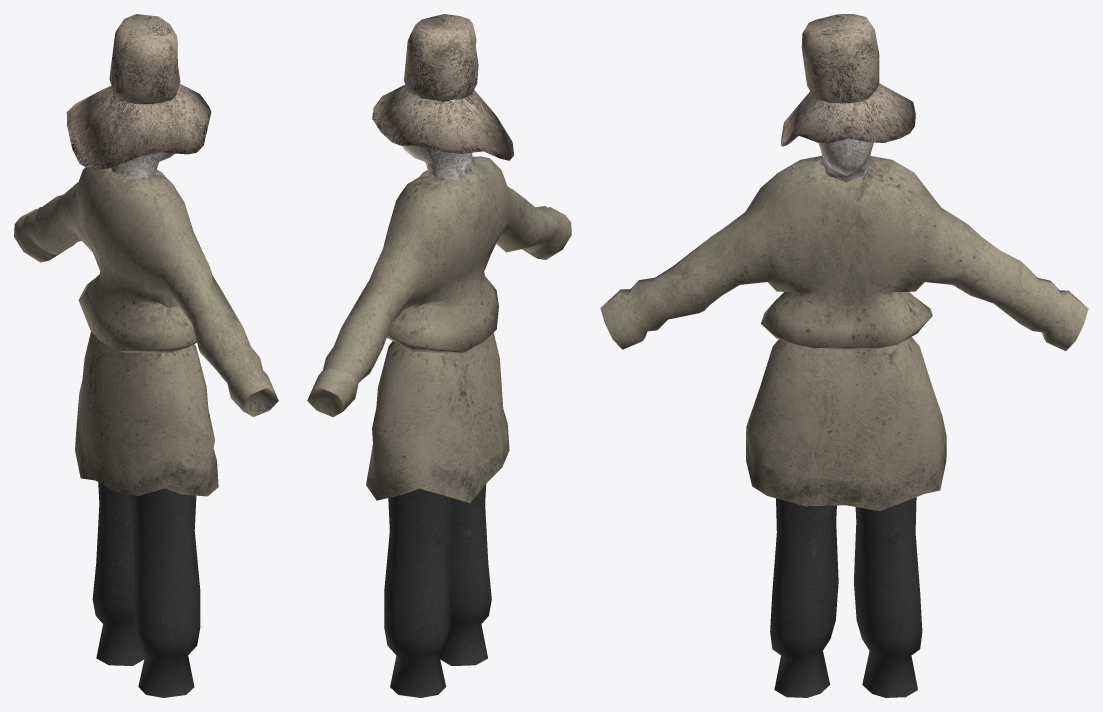
Rendered from scarecrow_for_farm.glb.
3 renders of one model, left to right at view 1: azimuth 30°, elevation 25°; view 2: azimuth 150°, elevation 25°; view 3: azimuth 270°, elevation 25°, orthographic. The views are drawn at different scales.
Parts seen in each view (by area): view 1: Plane.001, Plane, Cylinder.006, Plane.002; view 2: Plane.001, Plane, Cylinder.006, Plane.002; view 3: Plane.001, Plane, Cylinder.006, Plane.002.
Part boxes in pixels (left/top/right/bottom): Plane.001: left=14, top=167, right=278, bottom=496; Plane: left=92, top=482, right=200, bottom=697; Cylinder.006: left=66, top=14, right=211, bottom=170; Plane.002: left=111, top=152, right=174, bottom=179; Plane.001: left=307, top=156, right=571, bottom=502; Plane: left=384, top=484, right=491, bottom=697; Cylinder.006: left=372, top=14, right=513, bottom=160; Plane.002: left=402, top=99, right=475, bottom=179; Plane.001: left=600, top=156, right=1088, bottom=511; Plane: left=770, top=497, right=922, bottom=697; Cylinder.006: left=780, top=14, right=915, bottom=146; Plane.002: left=818, top=138, right=873, bottom=182.
Bounding box in the file's own units: 0.525 × 2.62 × 1.74.
1 material, 1 textured.
